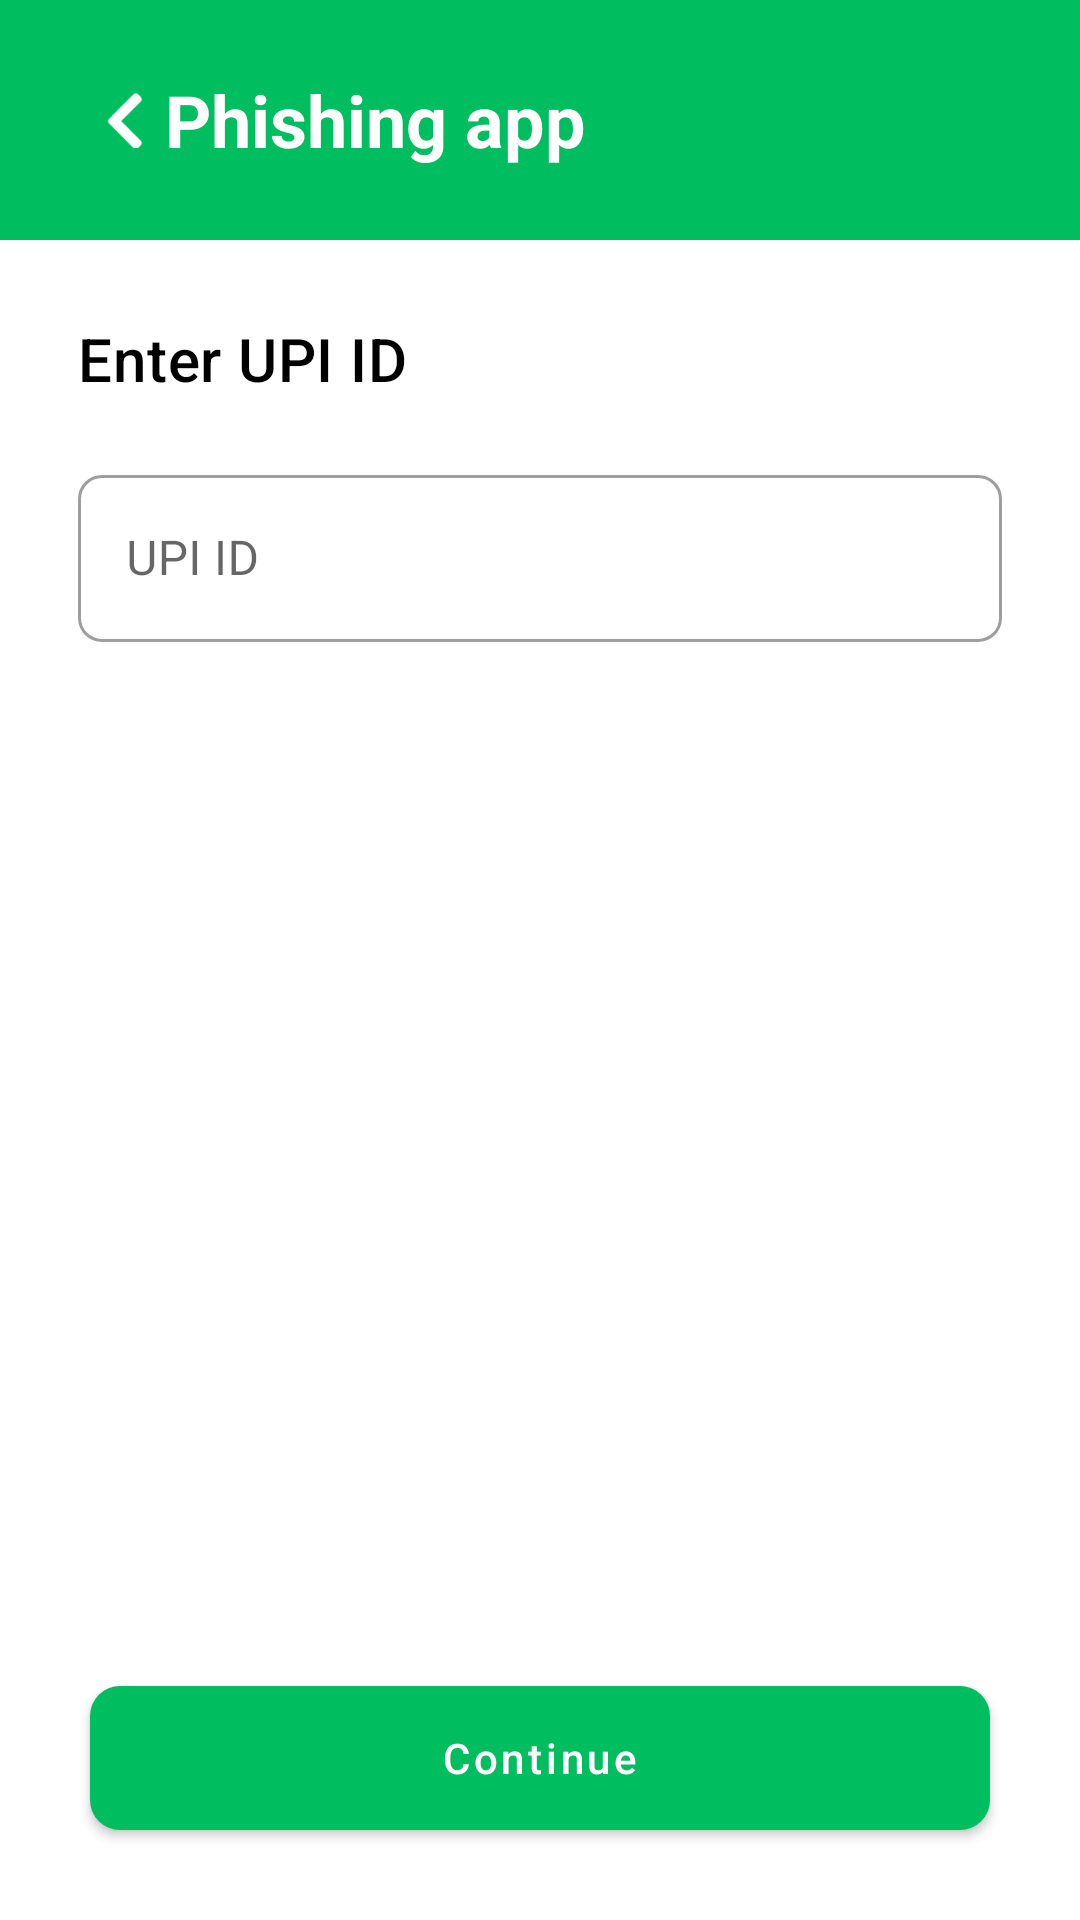

Screen size 1080 x 1920. Icon name, then its center in pixels as [x,y]:
back: [124,120]
